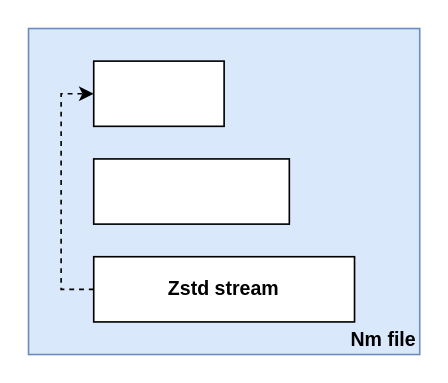
Image size: 448x383. Some labels were removed from this diagram. The shapes that lost their labels are listed below. From the top down, each one's centre as x and y in pixels, then its label:
pixel 158 92: Names digest
pixel 190 190: Dict digest
